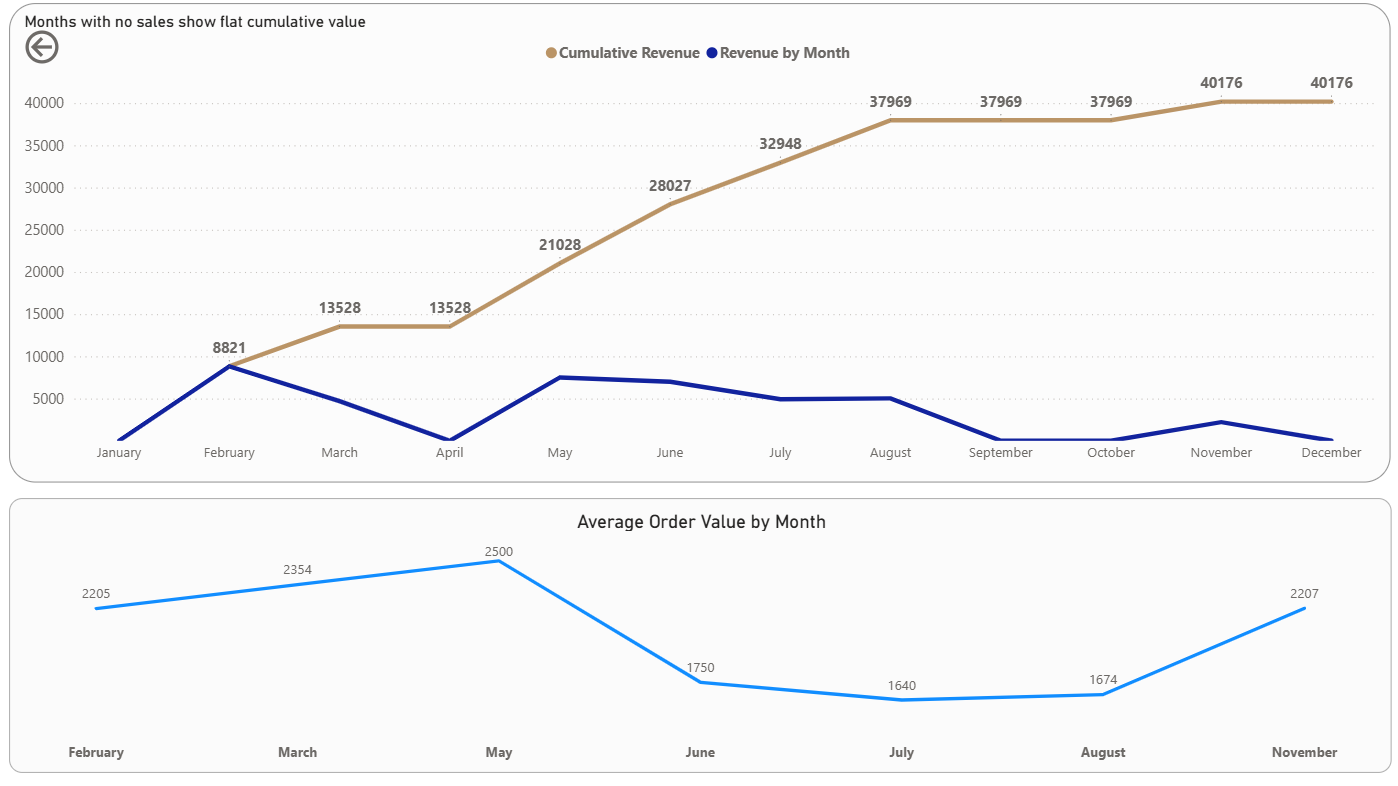

What the dashboard file says about the page in this screenshot:
{"tool":"powerbi","page":{"name":"Страница 3","canvas":[1280,720],"ordinal":2},"visuals":[{"type":"actionButton","box":[22,26,100,40],"z":0},{"type":"areaChart","title":"Months with no sales show flat cumulative value","fields":{"Y":["Dax.Cumulative Revenue","Dax.Cumulative Revenue by Month (No Gaps)"],"Category":["Calendar.MonthName_EN"]},"box":[11.8,6.4,1256.4,436.4],"z":1000},{"type":"lineChart","title":"Average Order Value by Month","fields":{"Y":["Dax.Середній чек"],"Category":["Calendar.MonthName_EN"]},"box":[12,456,1257,250],"z":2000}]}

Visuals, with their boxes in screenshot pixels (x1, y1, x2, y2), scaled from the page's 1280x720 canvas onto the 1398x786 screenshot:
actionButton: [x1=24, y1=28, x2=133, y2=72]
"Months with no sales show flat cumulative value" areaChart: [x1=13, y1=7, x2=1385, y2=483]
"Average Order Value by Month" lineChart: [x1=13, y1=498, x2=1386, y2=771]
